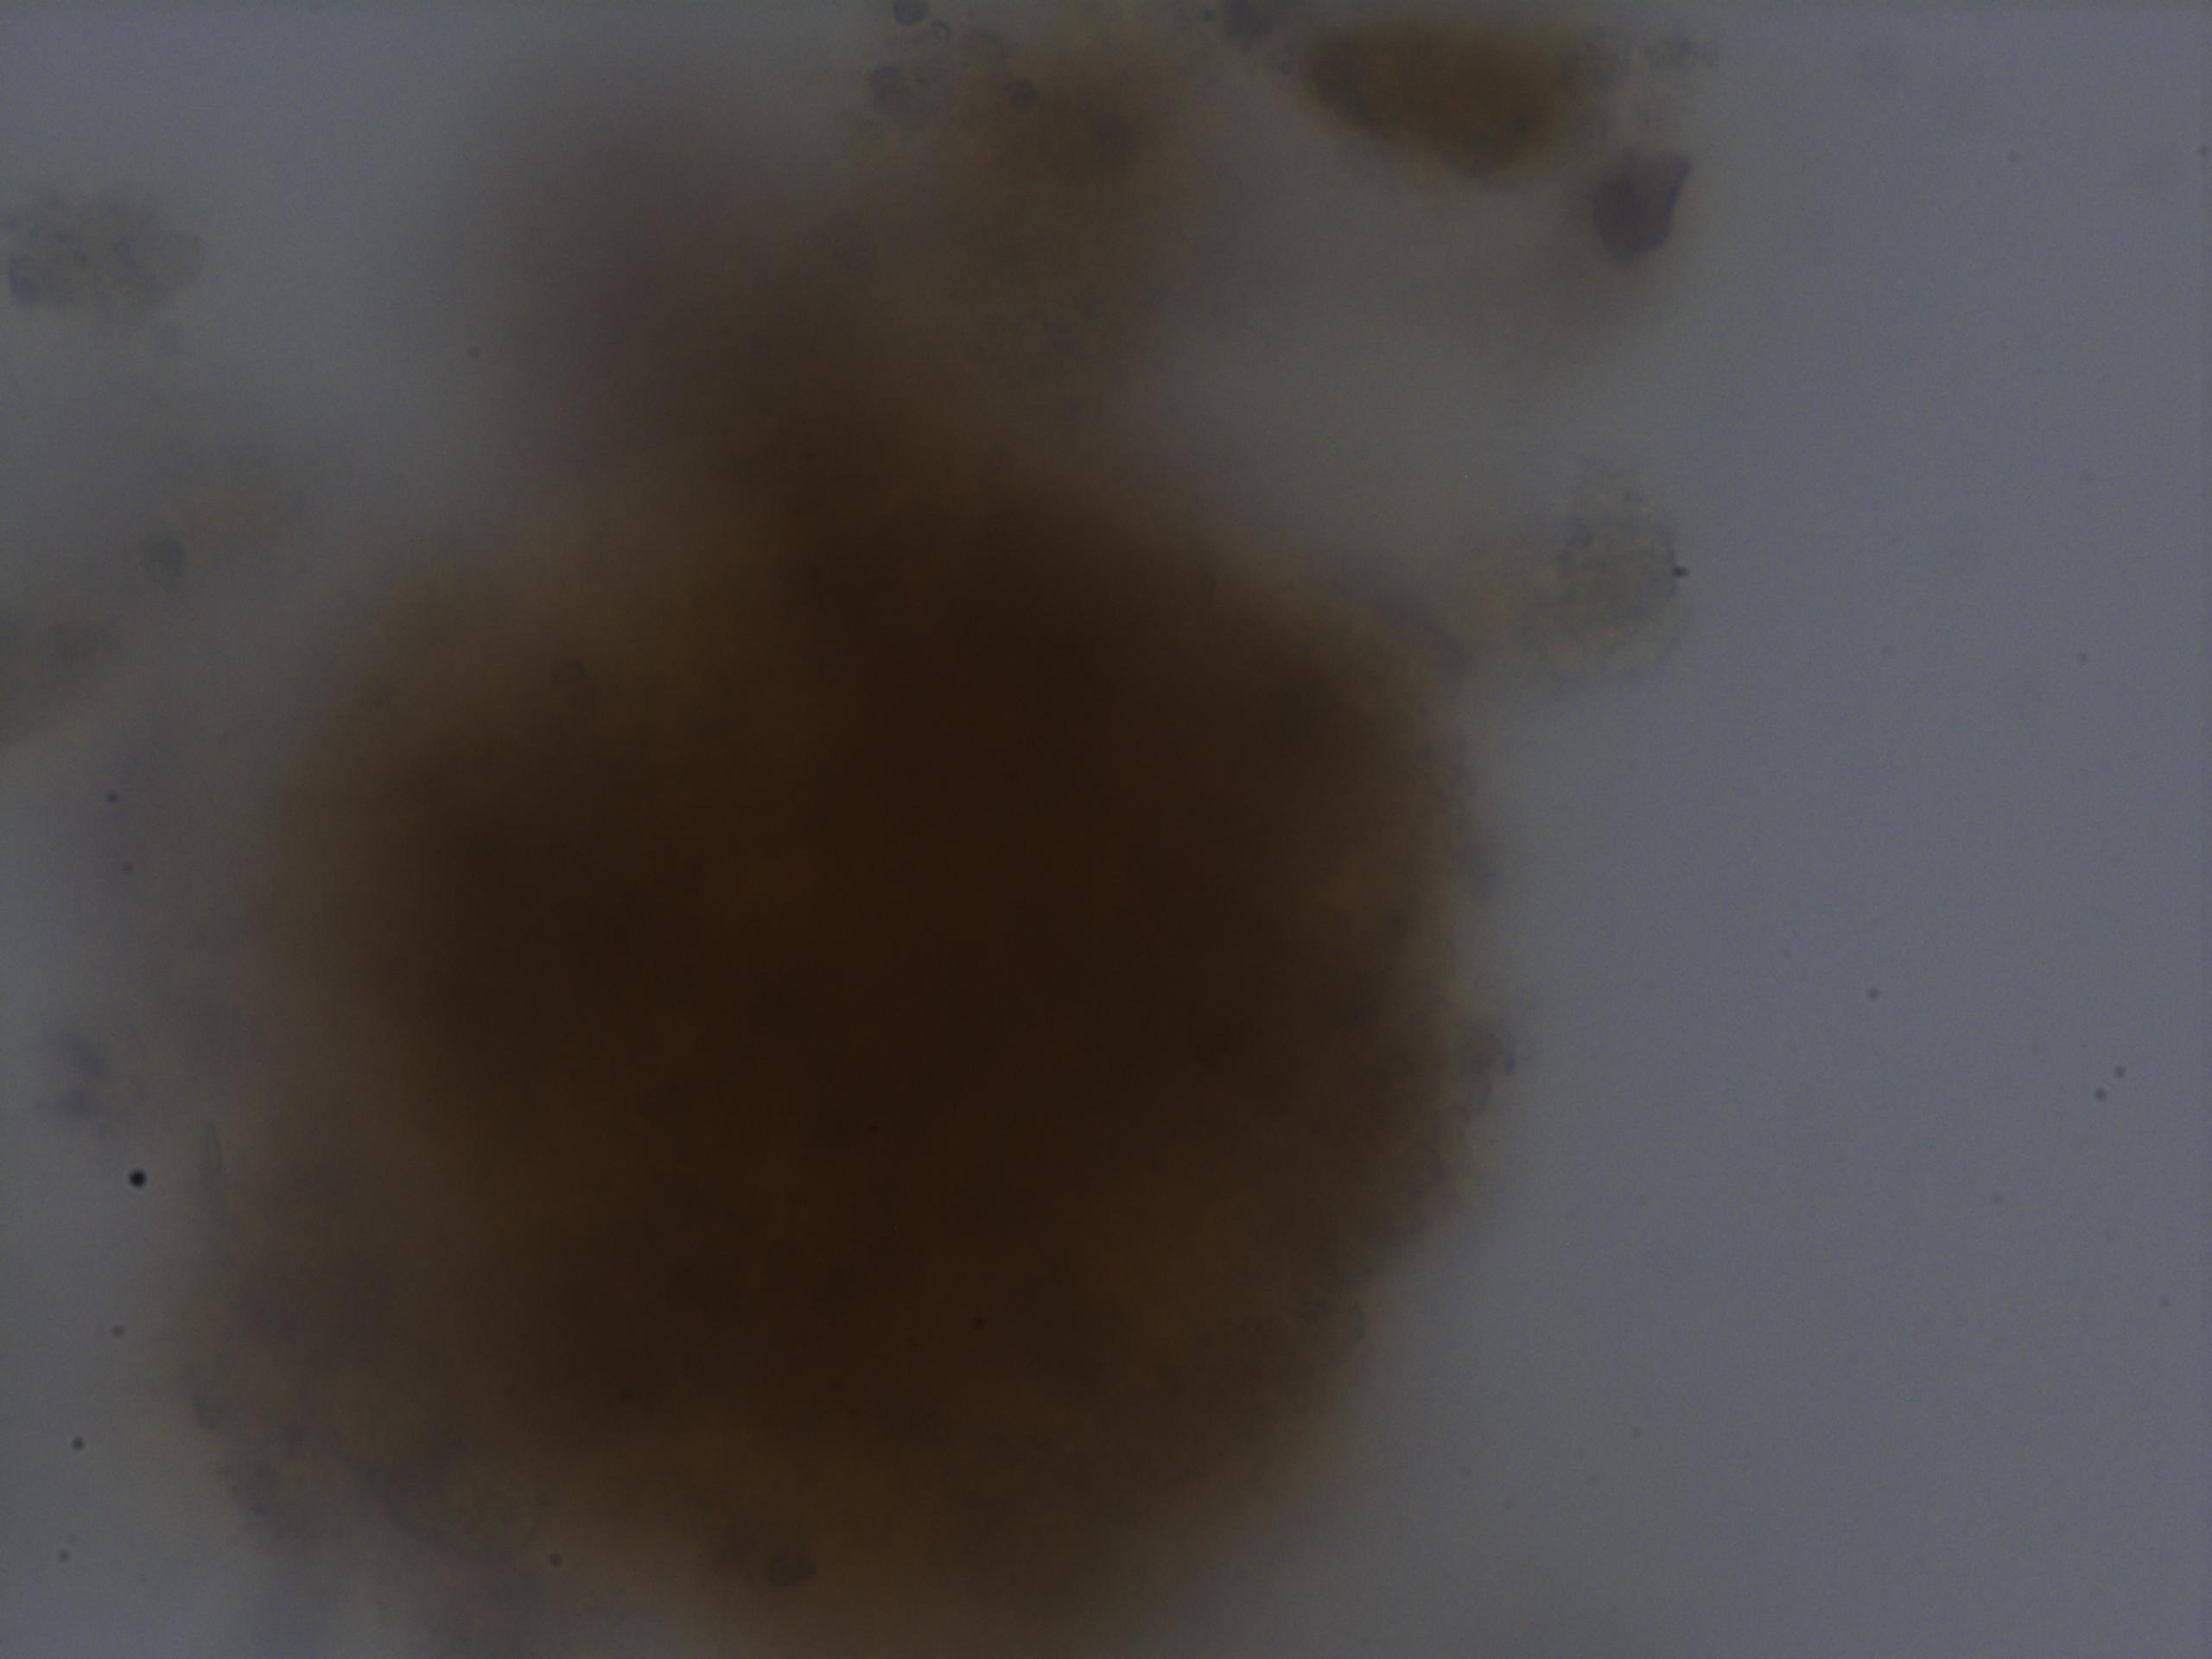spherical_floc: (256, 399, 1491, 1659)
